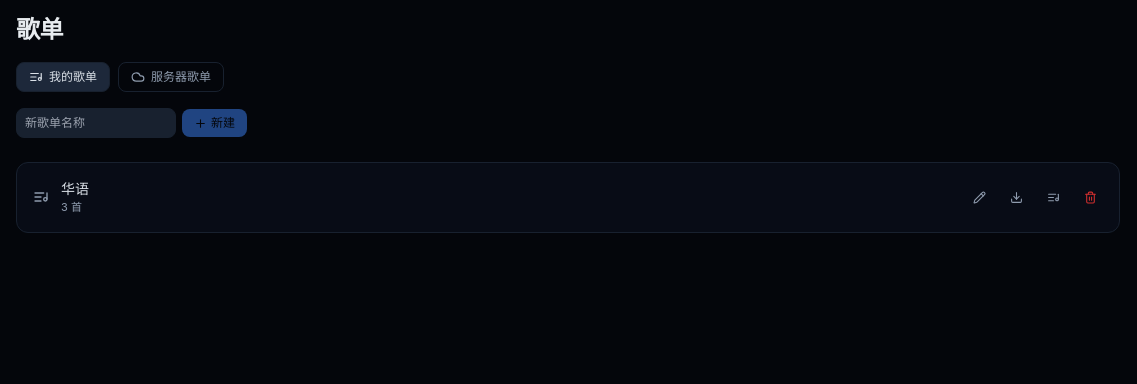
Test: playlist drag reordering (QYP3-015a) › moves a dragged item to the dropped position
Click the text "华语": (75, 189) [61, 179, 89, 199]
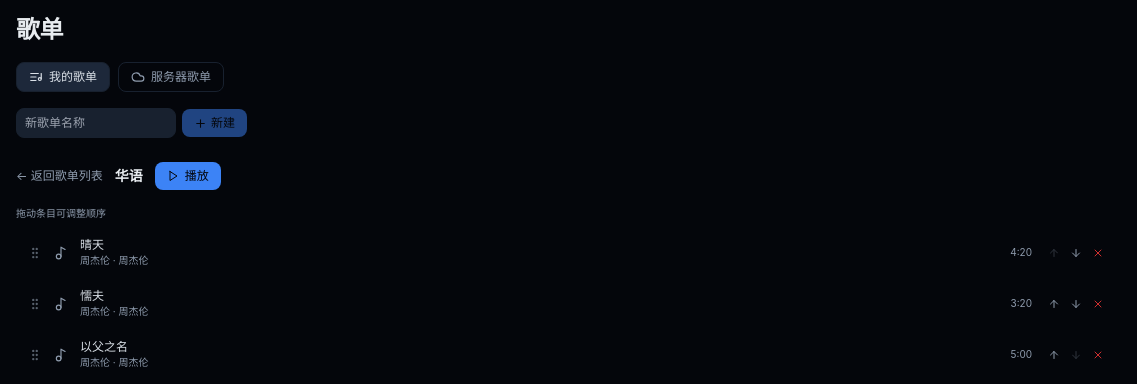
Check: the text "晴天" is shown, box [80, 237, 104, 252]
